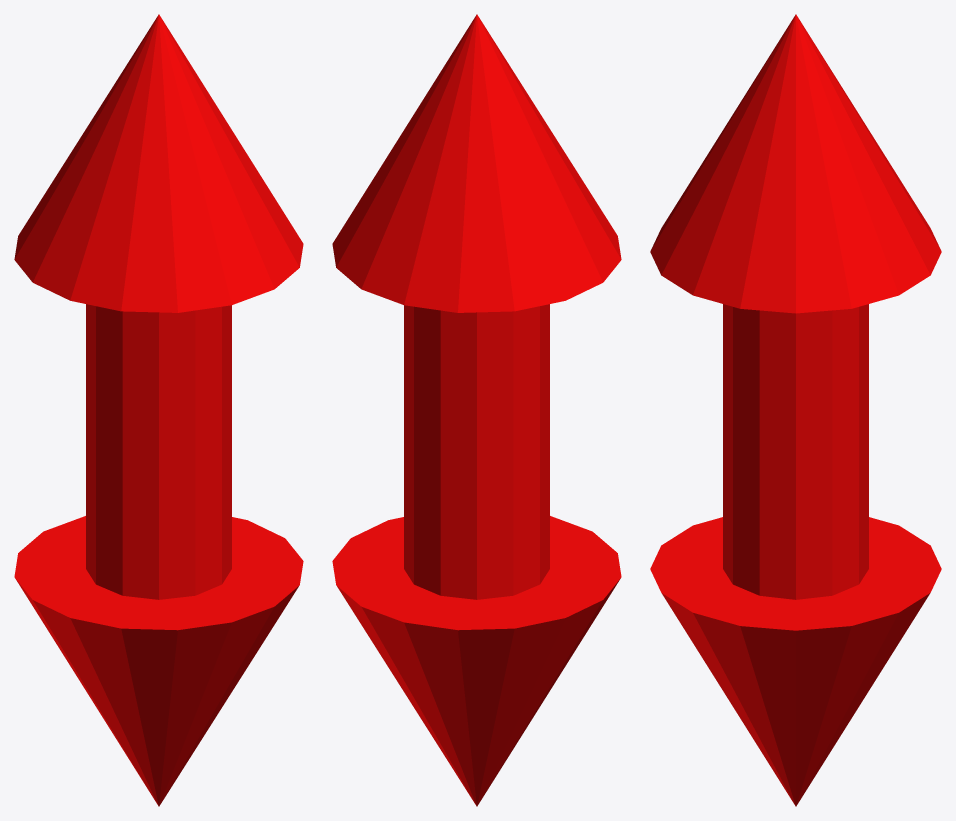
File: nil_link_mesh.dae
3 views of the same model, side by side, from view 1: azimuth 30°, elevation 25°; view 2: azimuth 150°, elevation 25°; view 3: azimuth 270°, elevation 25° (orthographic).
Visible parts, largest first — view 1: nil_link (×3); view 2: nil_link (×3); view 3: nil_link (×3).
Part boxes in pixels (x1=…): nil_link (×3): x1=14, y1=14, x2=303, y2=806; nil_link (×3): x1=332, y1=14, x2=621, y2=806; nil_link (×3): x1=650, y1=14, x2=941, y2=806.
Size of the model in its own units: 0.0667 by 0.2 by 0.0667.
